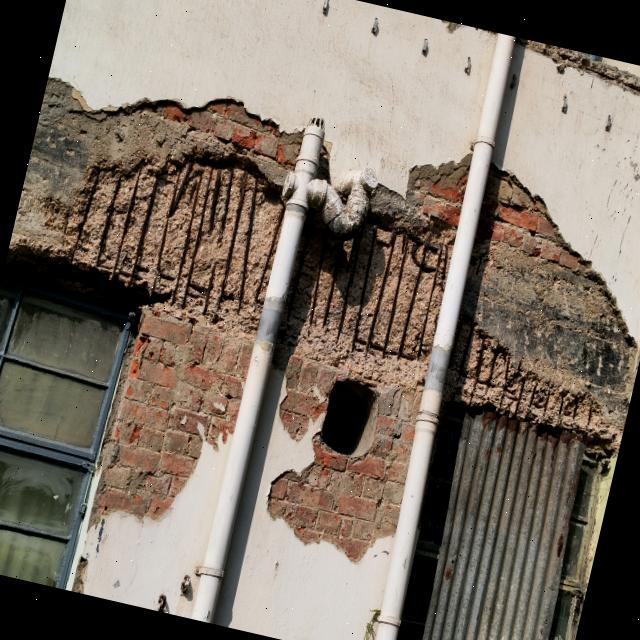spalling: (3, 78, 302, 517), (267, 155, 470, 559), (443, 165, 635, 457)
